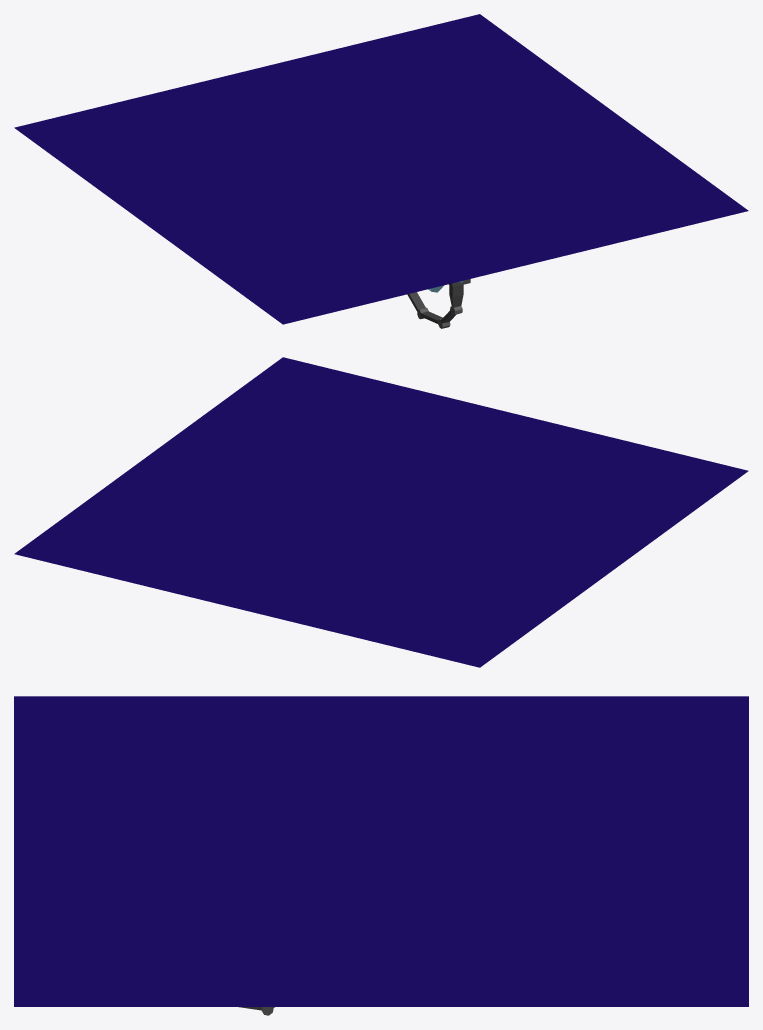
The model's file is Robot.fbx.
3 views of the same model, one above another, from view 1: azimuth 30°, elevation 25°; view 2: azimuth 150°, elevation 25°; view 3: azimuth 270°, elevation 25° (orthographic). The views are drawn at different scales.
Parts seen in each view (by area): view 1: Plane, G.O.L.F; view 2: Plane; view 3: Plane.
Part boxes in pixels (bbox=[...]): Plane: bbox=[14, 14, 748, 324]; G.O.L.F: bbox=[407, 279, 470, 328]; Plane: bbox=[14, 357, 748, 667]; Plane: bbox=[14, 696, 748, 1006].
Bounding box in the file's own units: 4721 × 1145 × 4721.
